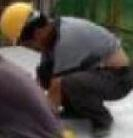boots: (90, 114, 112, 138)
hard-hat: (0, 1, 40, 45)
